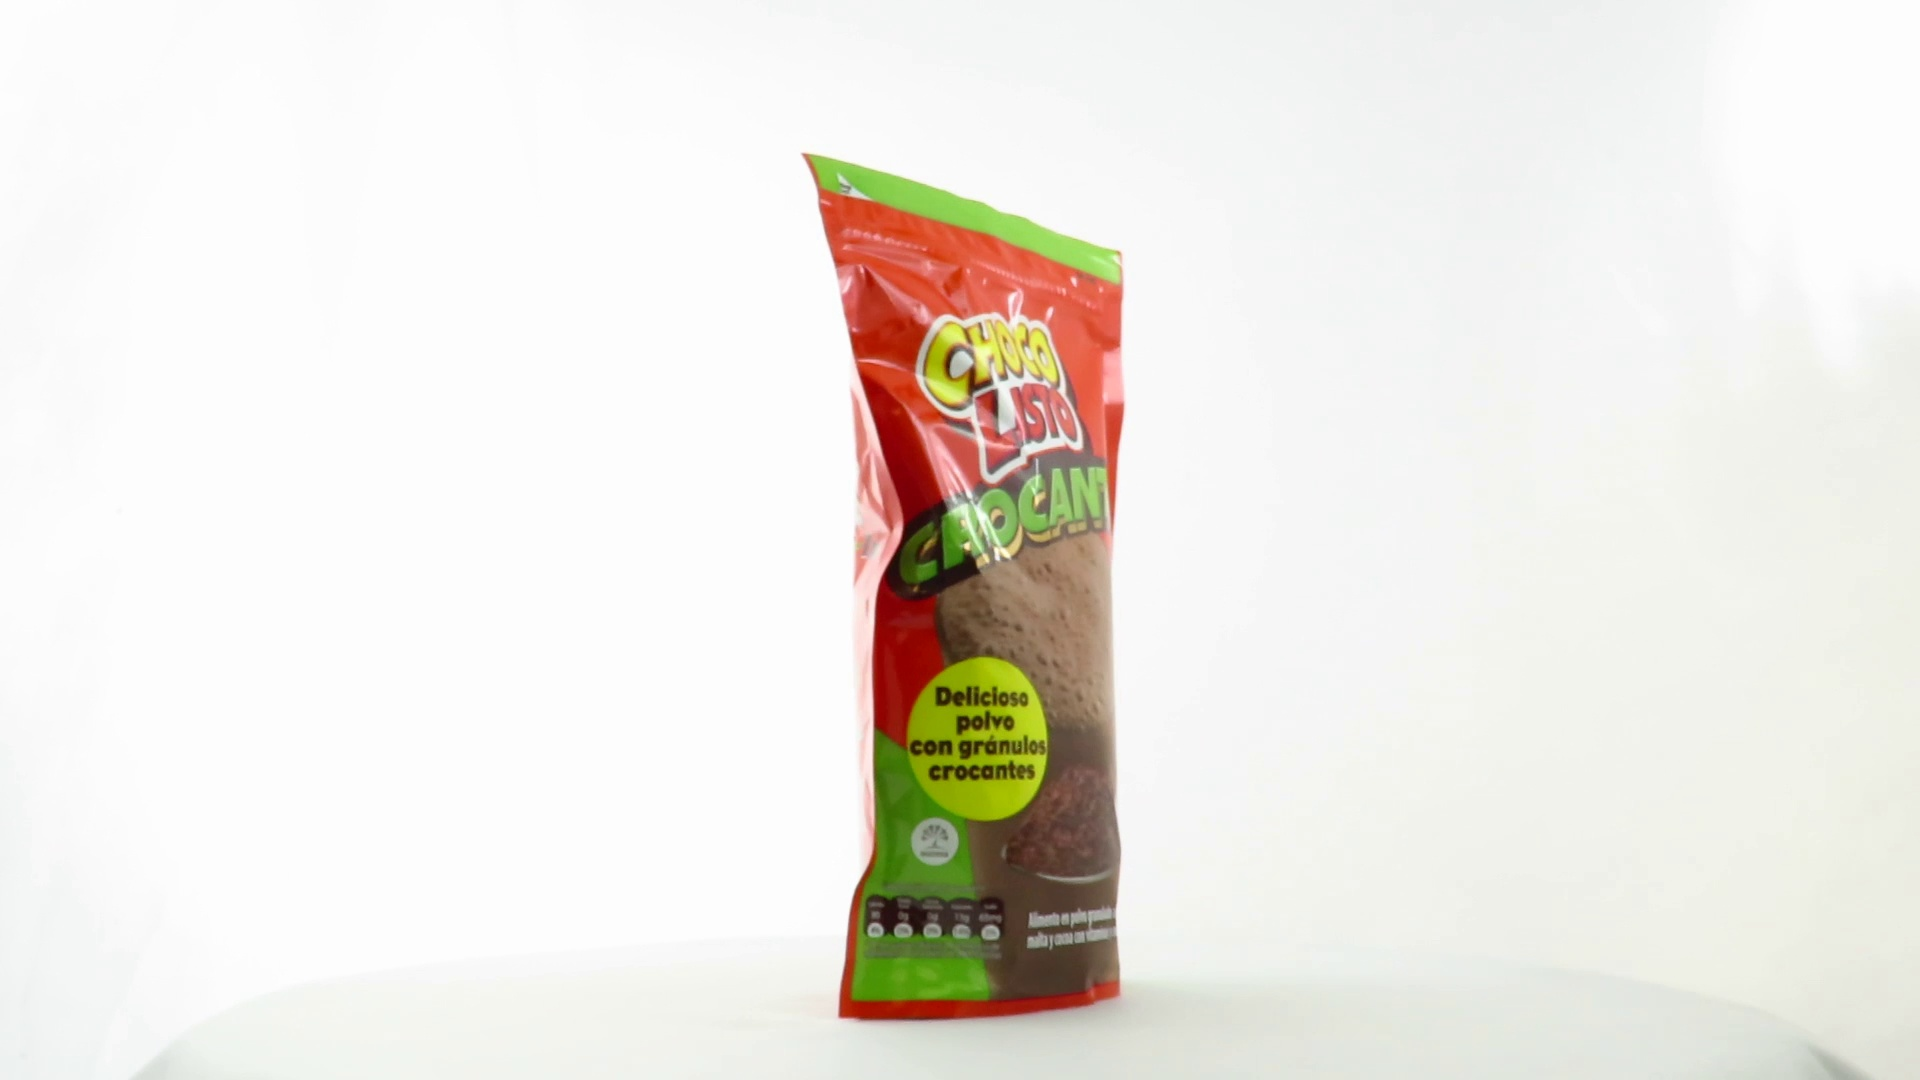COL0170102DYP50000: (796, 148, 1130, 1027)
